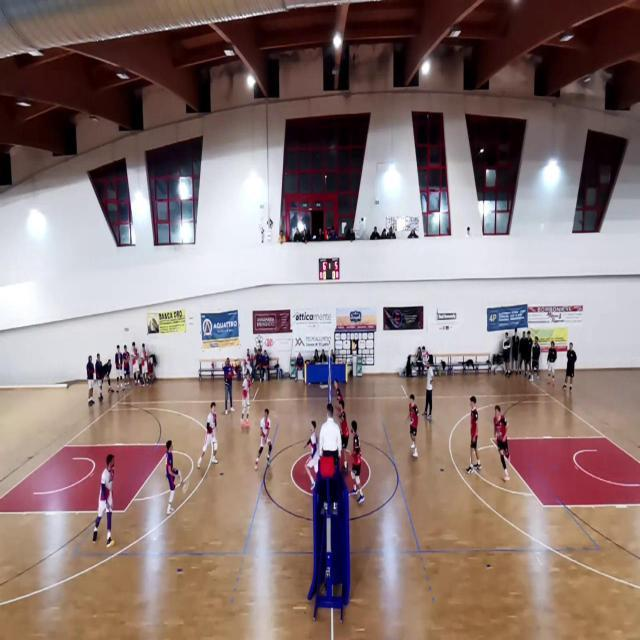volleyball: (232, 361, 241, 368)
